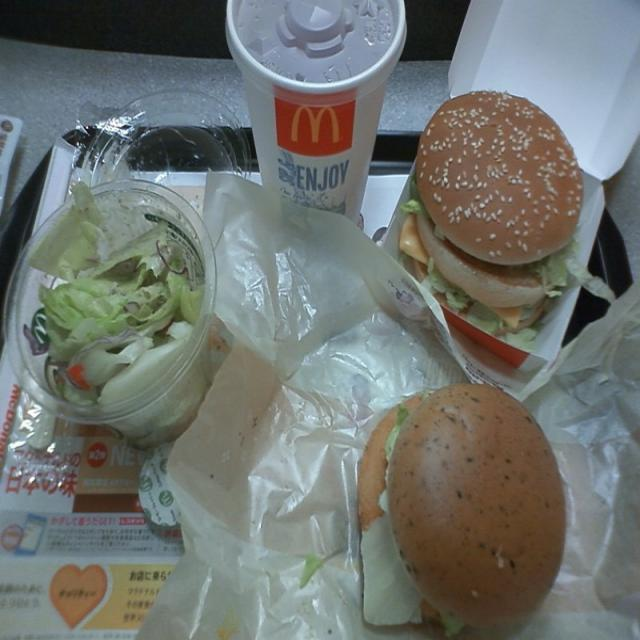Hamburger: (404, 78, 586, 368)
